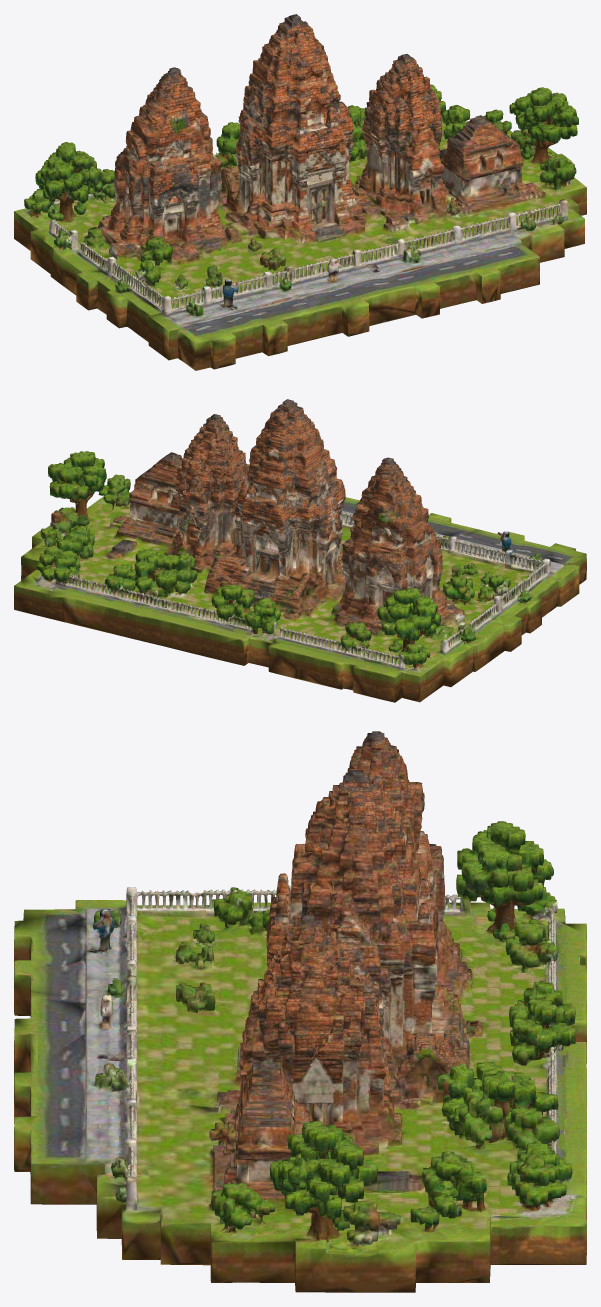
Rendered from prang-khaek.ar.glb.
The picture shows the model from 3 angles, top to bottom: view 1: azimuth 30°, elevation 25°; view 2: azimuth 150°, elevation 25°; view 3: azimuth 270°, elevation 25°; orthographic projection. The views are drawn at different scales.
Size of the model in its own units: 0.4 by 0.172 by 0.2686.
Materials: 1 (1 with a texture image).
